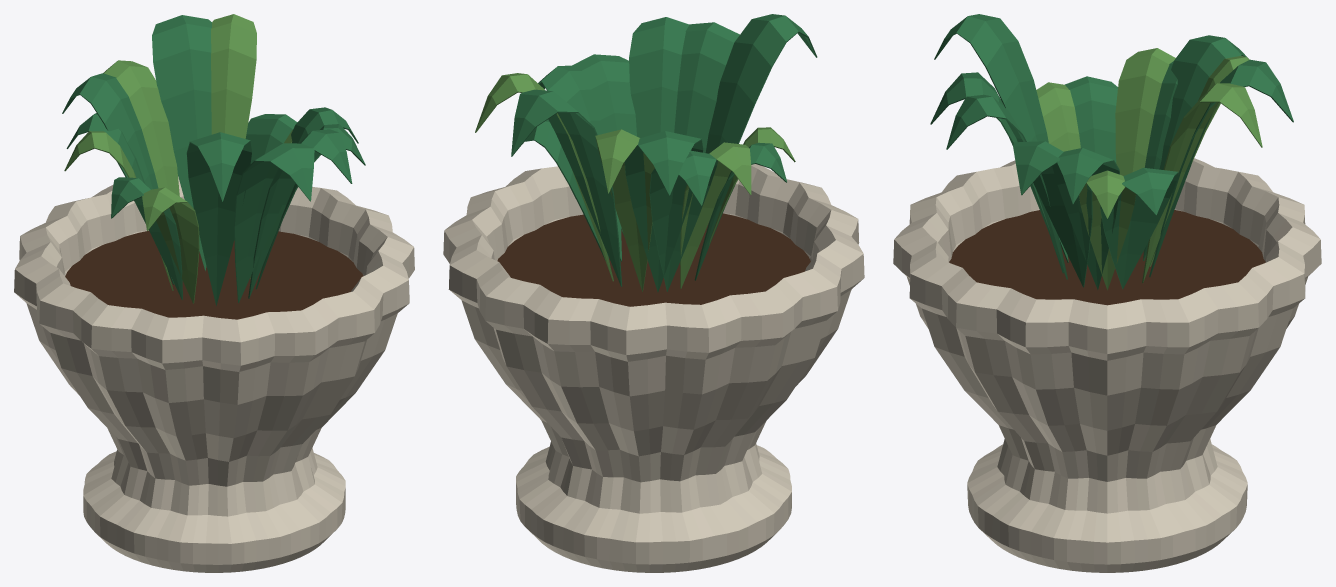
The model's file is planter_fluted_01.glb.
3 renders of one model, left to right at view 1: azimuth 30°, elevation 25°; view 2: azimuth 150°, elevation 25°; view 3: azimuth 270°, elevation 25°, orthographic. The views are drawn at different scales.
Visible parts, largest first — view 1: Fluted vase with inner wall; view 2: Fluted vase with inner wall; view 3: Fluted vase with inner wall.
Boxes of the visible parts, x1,y1,x2,y2 form: Fluted vase with inner wall: [14, 14, 414, 572]; Fluted vase with inner wall: [443, 14, 864, 572]; Fluted vase with inner wall: [893, 14, 1321, 572].
Bounding box in the file's own units: 0.9546 × 1.16 × 0.9546.
